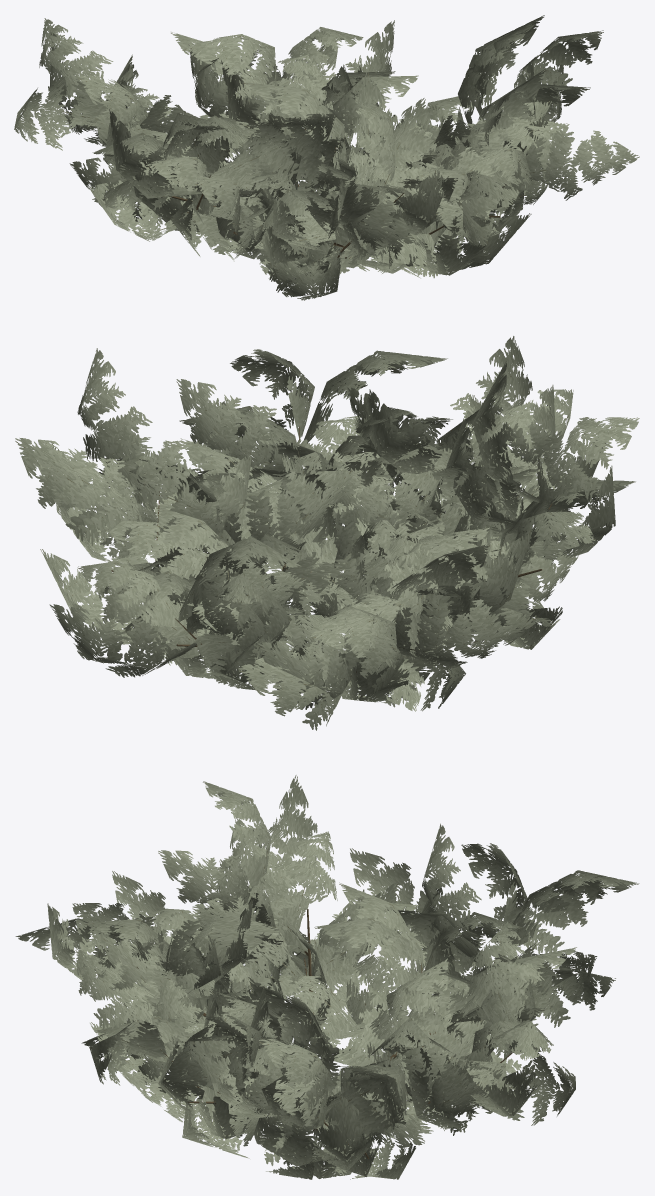
File: SM_CN_Sage_A_LOD1.glb
3 views of the same model, one above another, from view 1: azimuth 30°, elevation 25°; view 2: azimuth 150°, elevation 25°; view 3: azimuth 270°, elevation 25° (orthographic). The views are drawn at different scales.
Visible parts, largest first — view 1: SM_CN_Sage_A_LOD1; view 2: SM_CN_Sage_A_LOD1; view 3: SM_CN_Sage_A_LOD1.
Boxes of the visible parts, x1,y1,x2,y2 form: SM_CN_Sage_A_LOD1: (14, 15, 639, 300); SM_CN_Sage_A_LOD1: (15, 336, 639, 730); SM_CN_Sage_A_LOD1: (15, 775, 639, 1179).
Size of the model in its own units: 0.9512 by 0.45 by 1.
2 materials, 2 textured.
